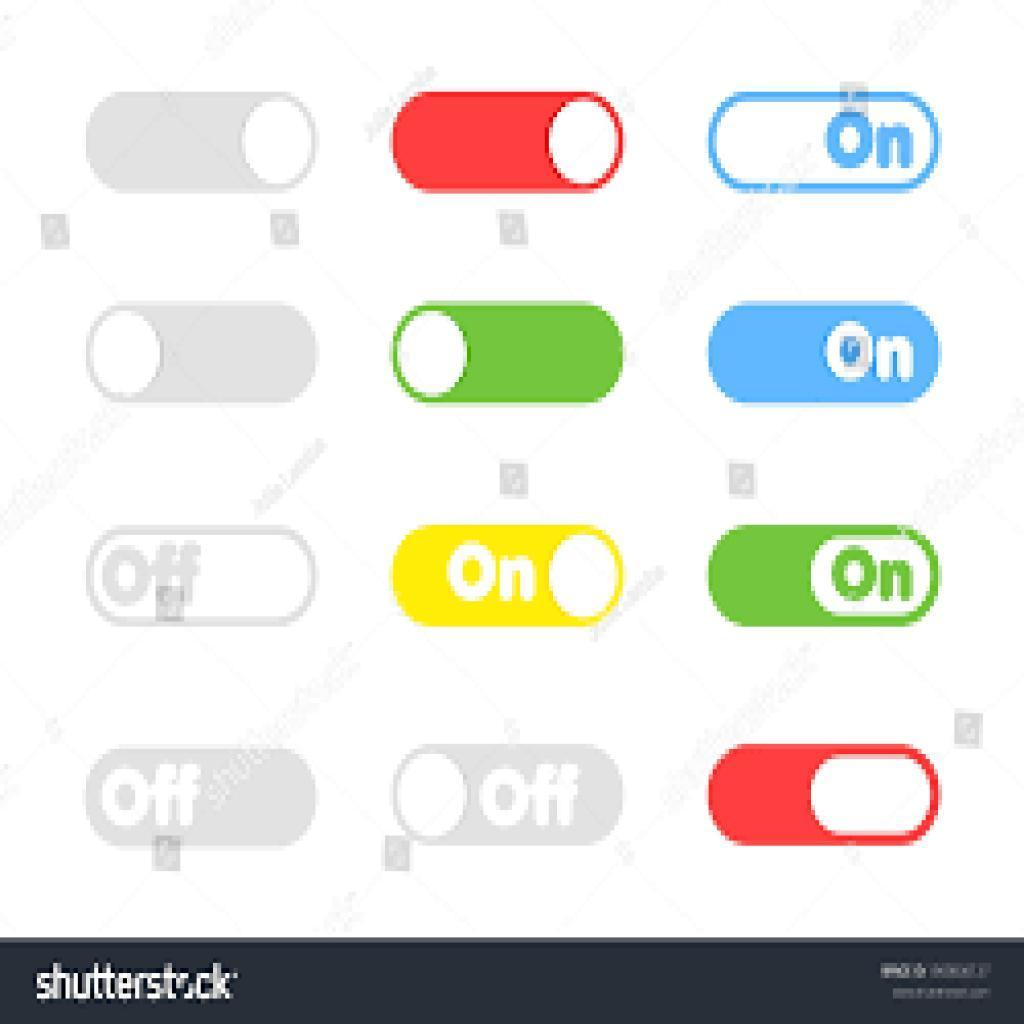switch: (387, 513, 631, 642), (390, 299, 629, 411), (83, 301, 329, 408), (703, 88, 941, 198), (392, 90, 625, 202), (83, 745, 320, 855), (390, 744, 624, 851), (706, 525, 939, 631), (85, 527, 317, 632), (711, 746, 940, 851), (86, 94, 322, 194), (711, 305, 940, 408)
